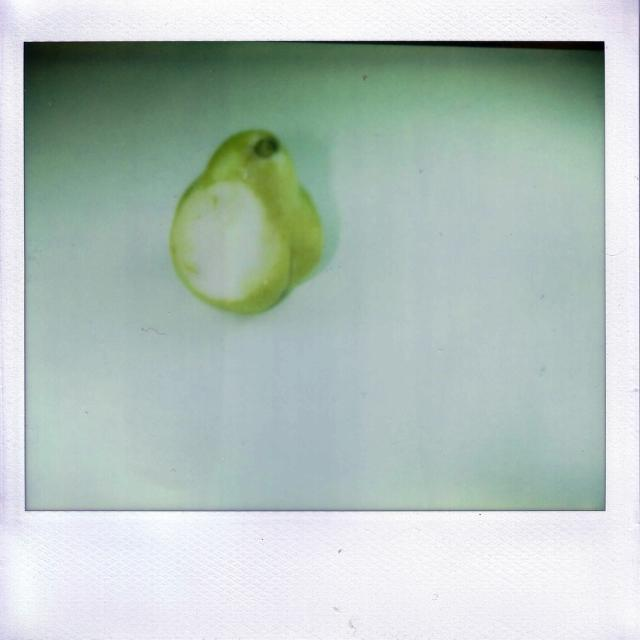pear: (166, 128, 322, 312)
